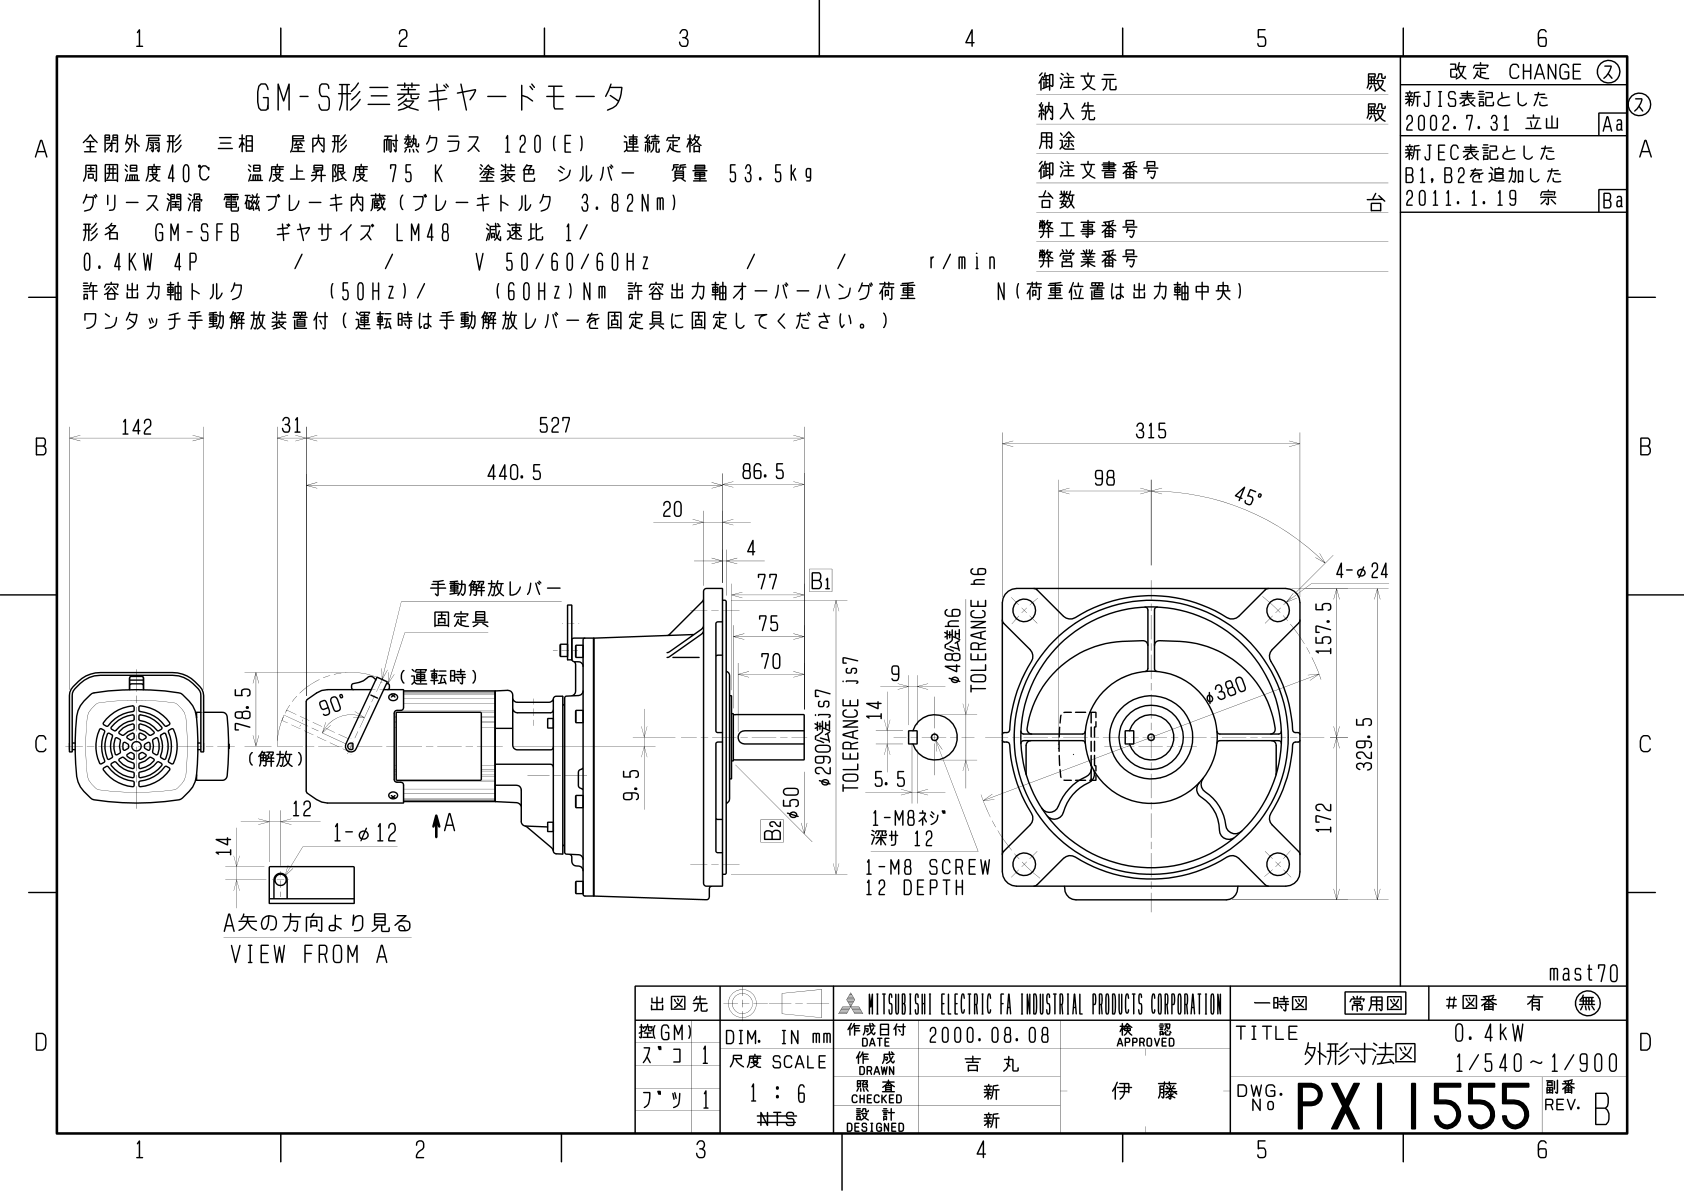GM_S_手動ブレーキ＿三相_フランジ: (63, 388, 1393, 980)
